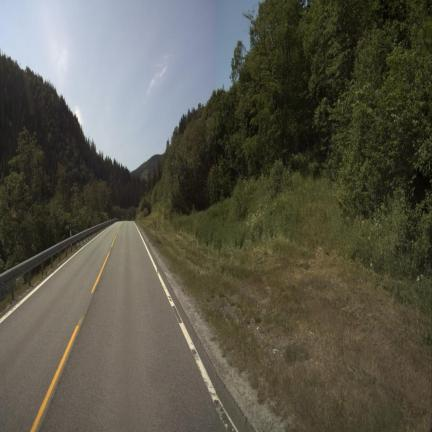Road: (0, 222, 250, 430)
